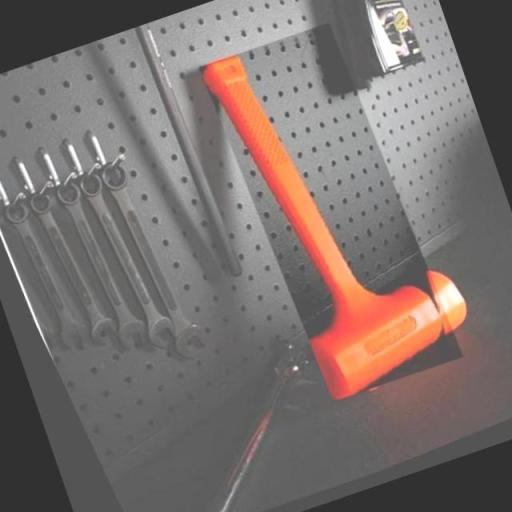mallet: (198, 22, 454, 410)
